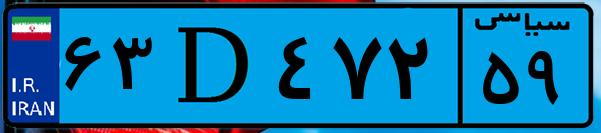2: (385, 28, 445, 110)
3: (110, 28, 158, 98)
4: (270, 28, 330, 110)
5: (475, 38, 525, 113)
6: (57, 26, 110, 100)
7: (330, 28, 385, 110)
9: (525, 38, 570, 115)
D: (158, 12, 270, 120)
